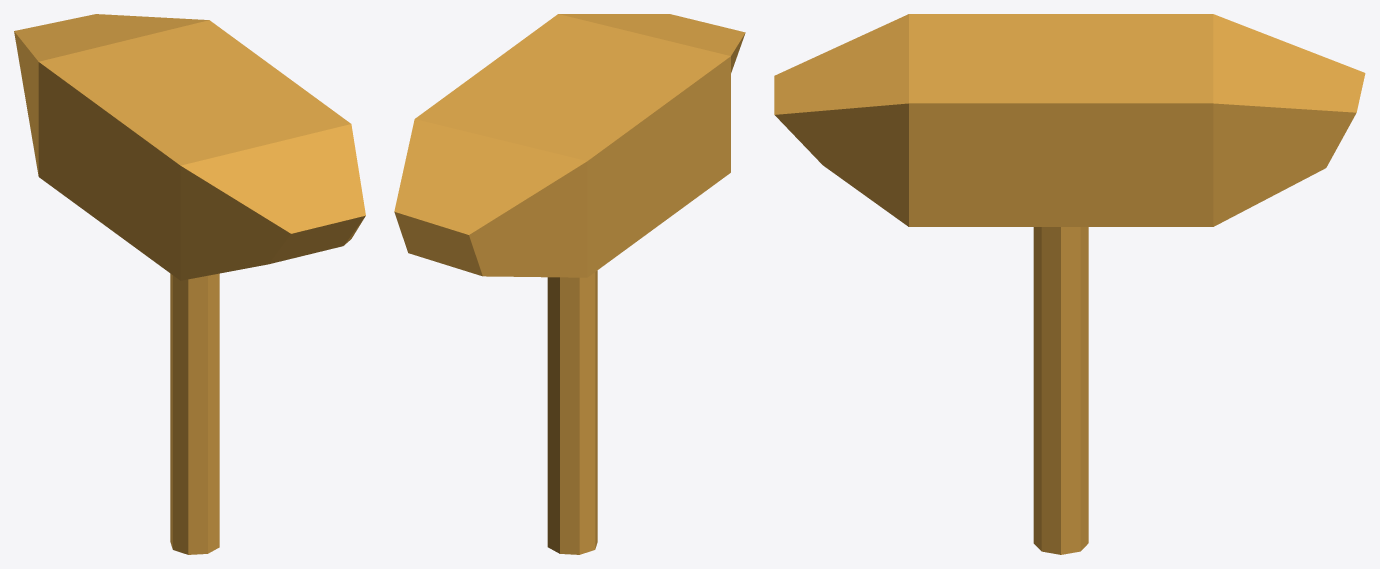
Rendered from PickAxe.fbx.
3 views of the same model, side by side, from view 1: azimuth 30°, elevation 25°; view 2: azimuth 150°, elevation 25°; view 3: azimuth 270°, elevation 25° (orthographic). The views are drawn at different scales.
Parts seen in each view (by area): view 1: Cube; view 2: Cube; view 3: Cube.
Boxes of the visible parts, box(x1,y1,x2,y2) form: Cube: box(14, 14, 365, 554); Cube: box(394, 14, 745, 554); Cube: box(774, 14, 1365, 554).
Bounding box in the file's own units: 146 × 369 × 408.
